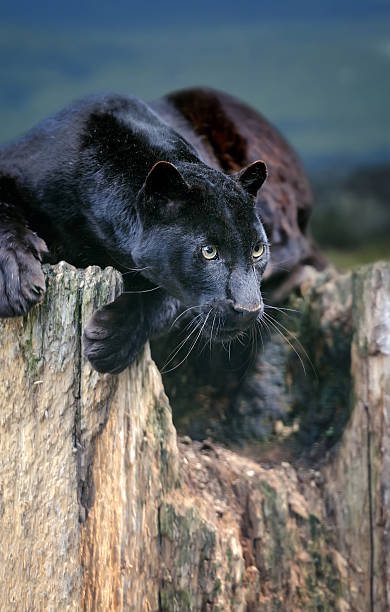panther: (123, 150, 293, 346)
